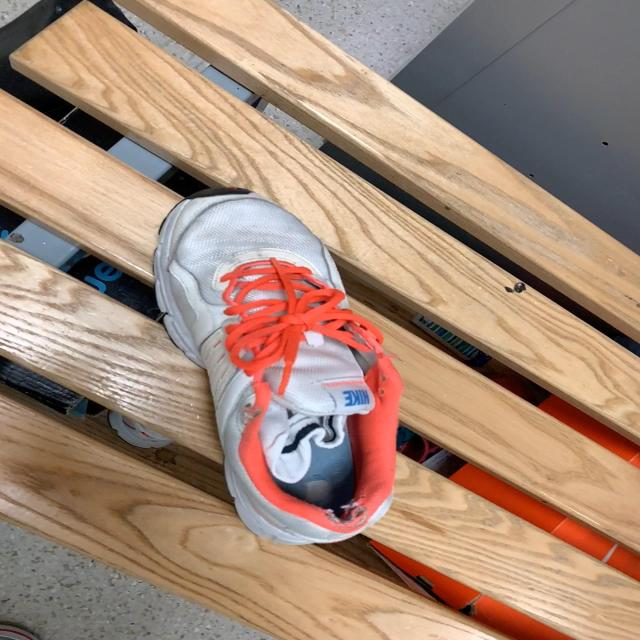shoe: (152, 191, 404, 548)
